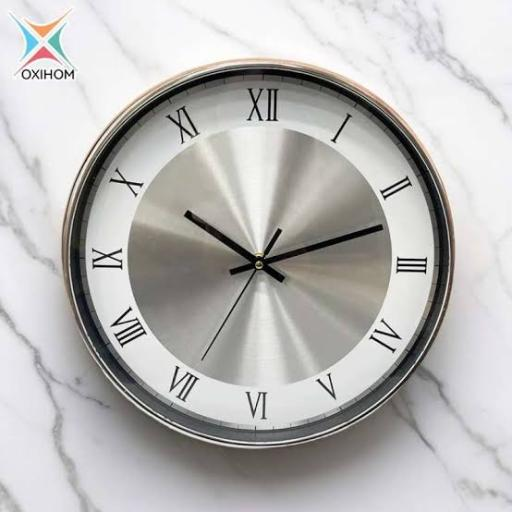jam dinding: (55, 54, 457, 454)
